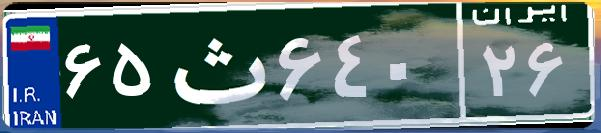0: (385, 28, 445, 110)
2: (475, 38, 525, 113)
4: (330, 28, 385, 110)
5: (110, 28, 158, 105)
6: (273, 28, 330, 110), (57, 26, 110, 107), (525, 38, 570, 115)
ث: (158, 15, 273, 115)
